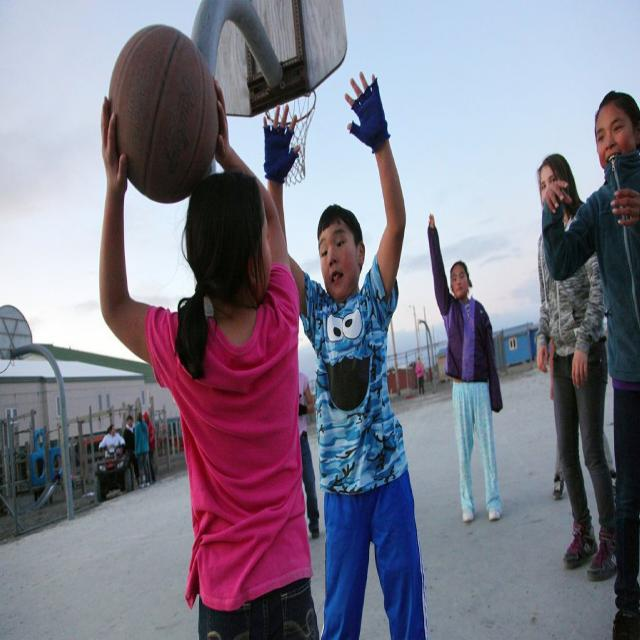body: (97, 19, 328, 639), (260, 63, 428, 639), (537, 86, 639, 639), (531, 150, 621, 580), (424, 211, 504, 524), (298, 370, 321, 541), (131, 408, 151, 490), (122, 415, 140, 490), (141, 410, 157, 486), (98, 423, 126, 452), (548, 463, 566, 508), (600, 424, 614, 463), (414, 354, 425, 396)
